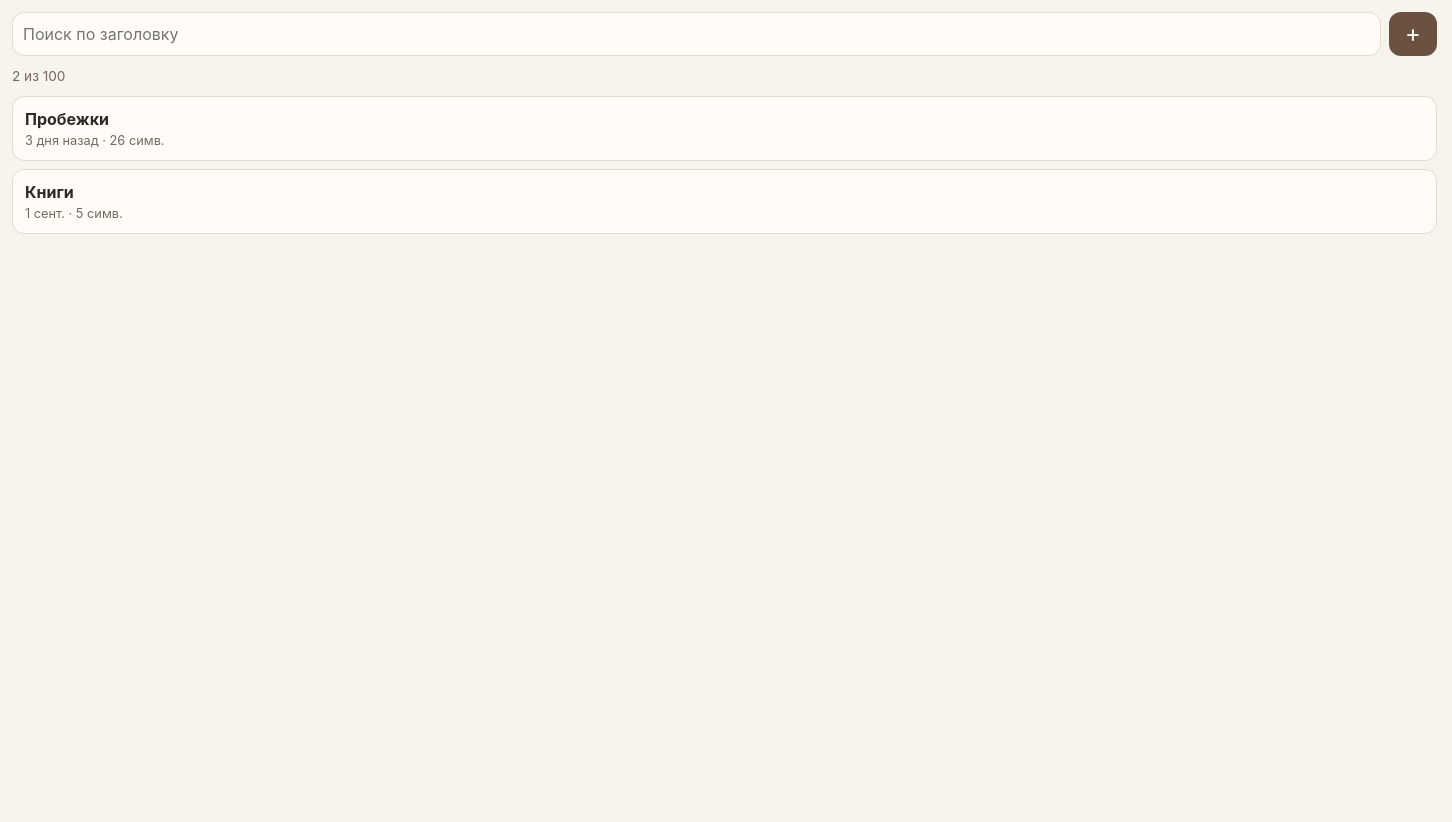
Test: NotesScreen › reports the server-side notes limit on create
Click the button named "Создать заметку": (1413, 34) [1389, 12, 1437, 56]
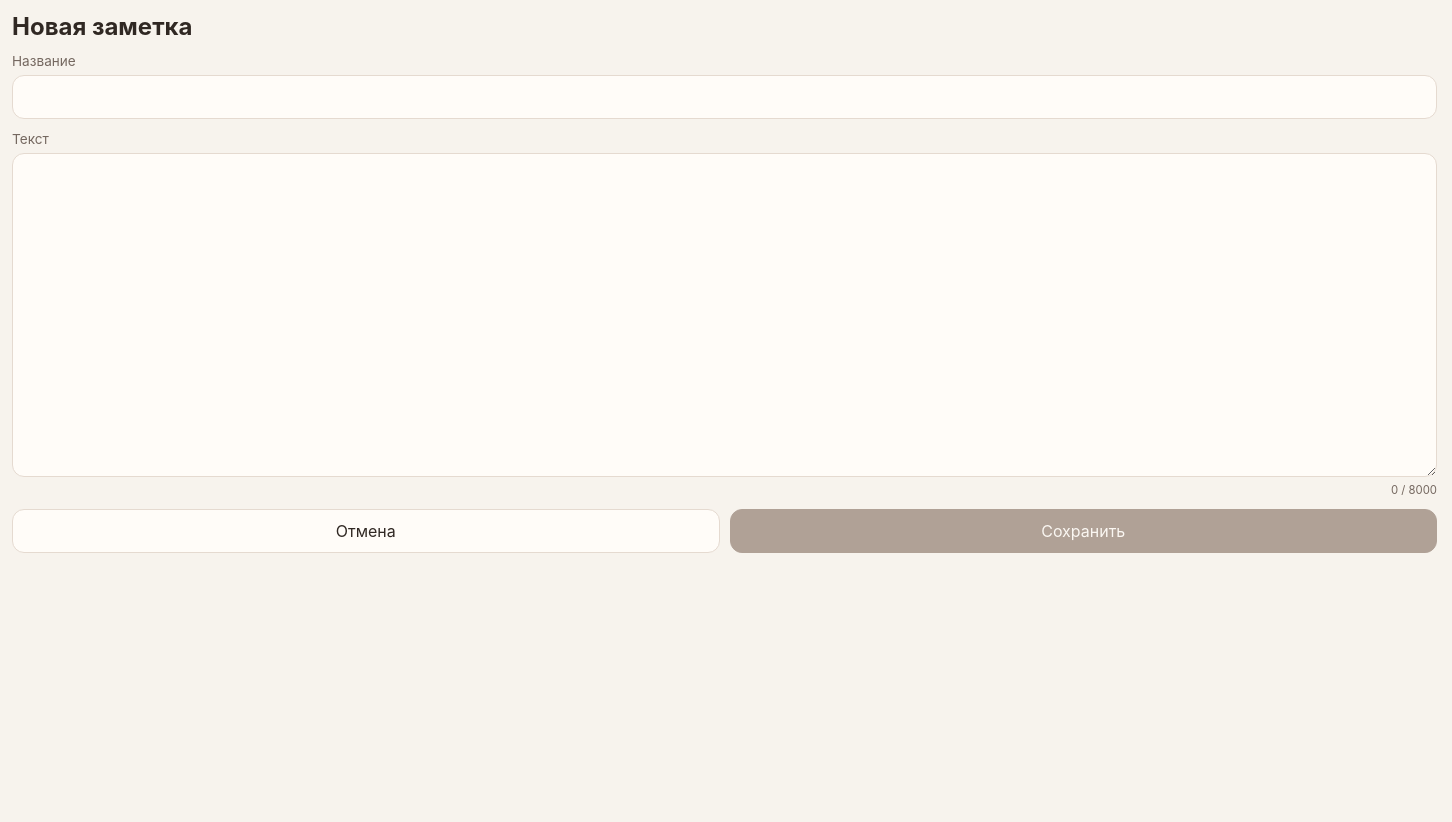
In the field labelled "Название": (724, 97) [12, 75, 1437, 119], type "Книги"
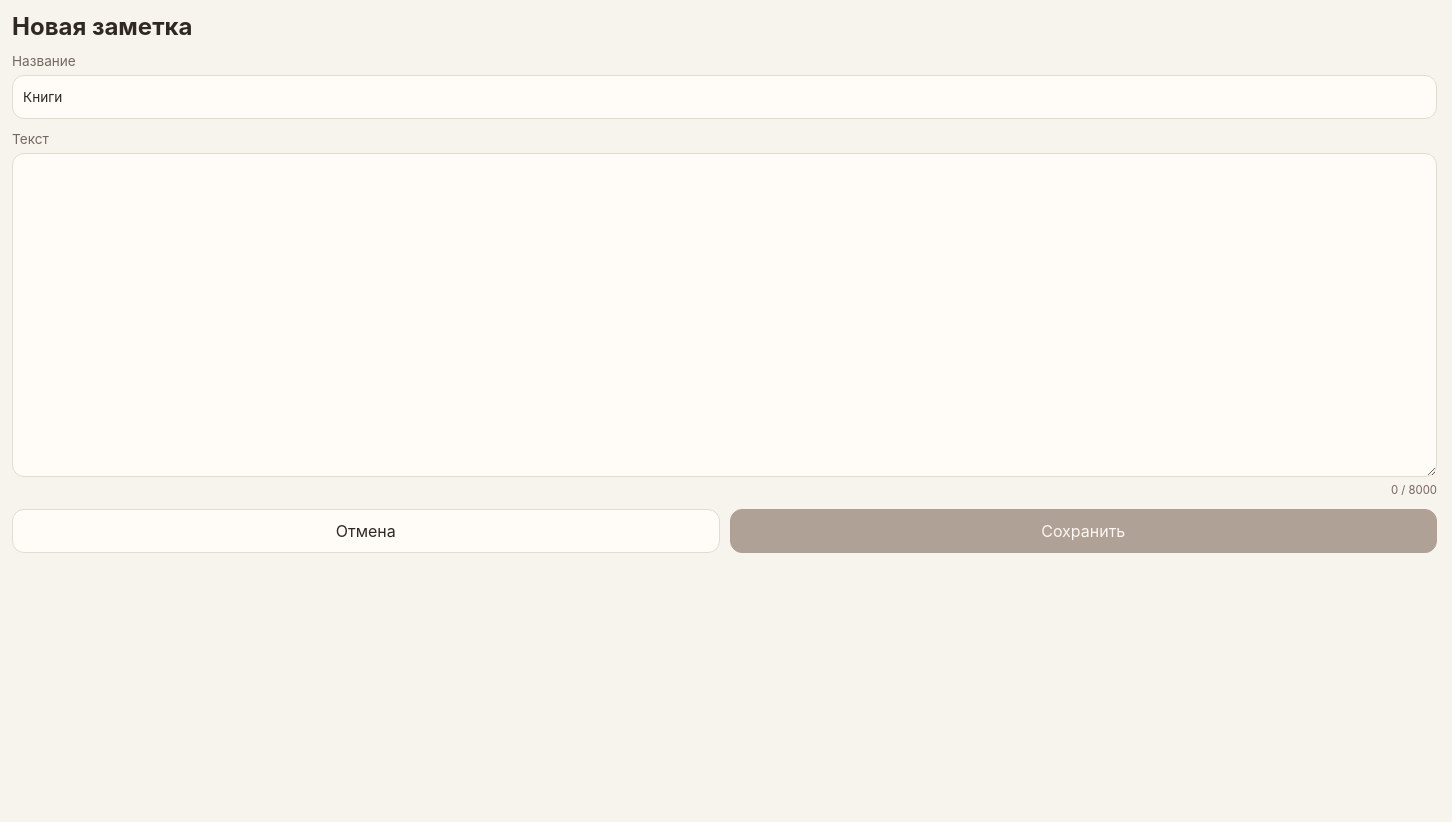
In the text box labelled "Текст 0 / 8000": (724, 315) [12, 153, 1437, 477], type "мой текст"
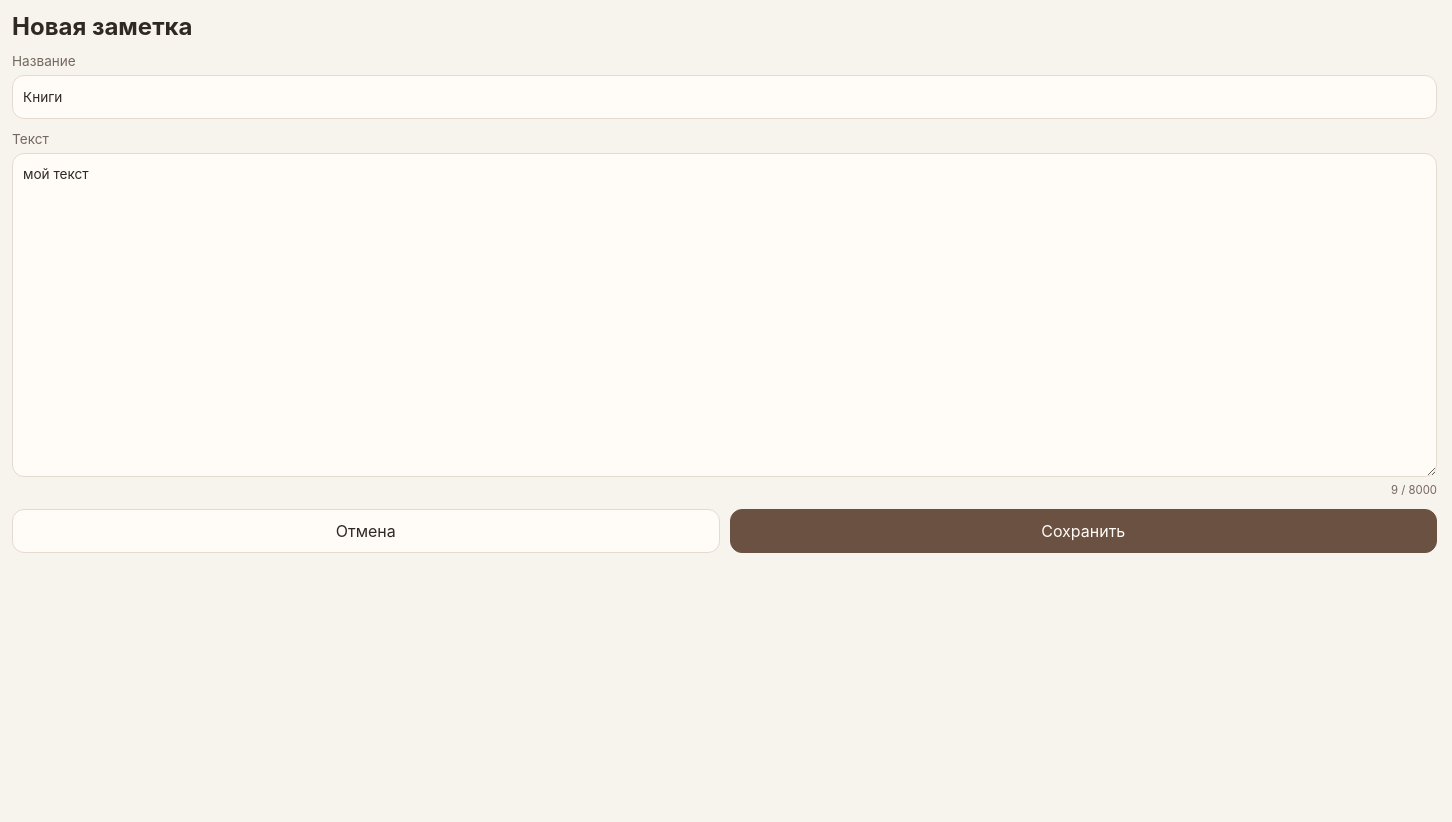
Click the button with class "note-save": (1083, 531) [730, 509, 1437, 553]
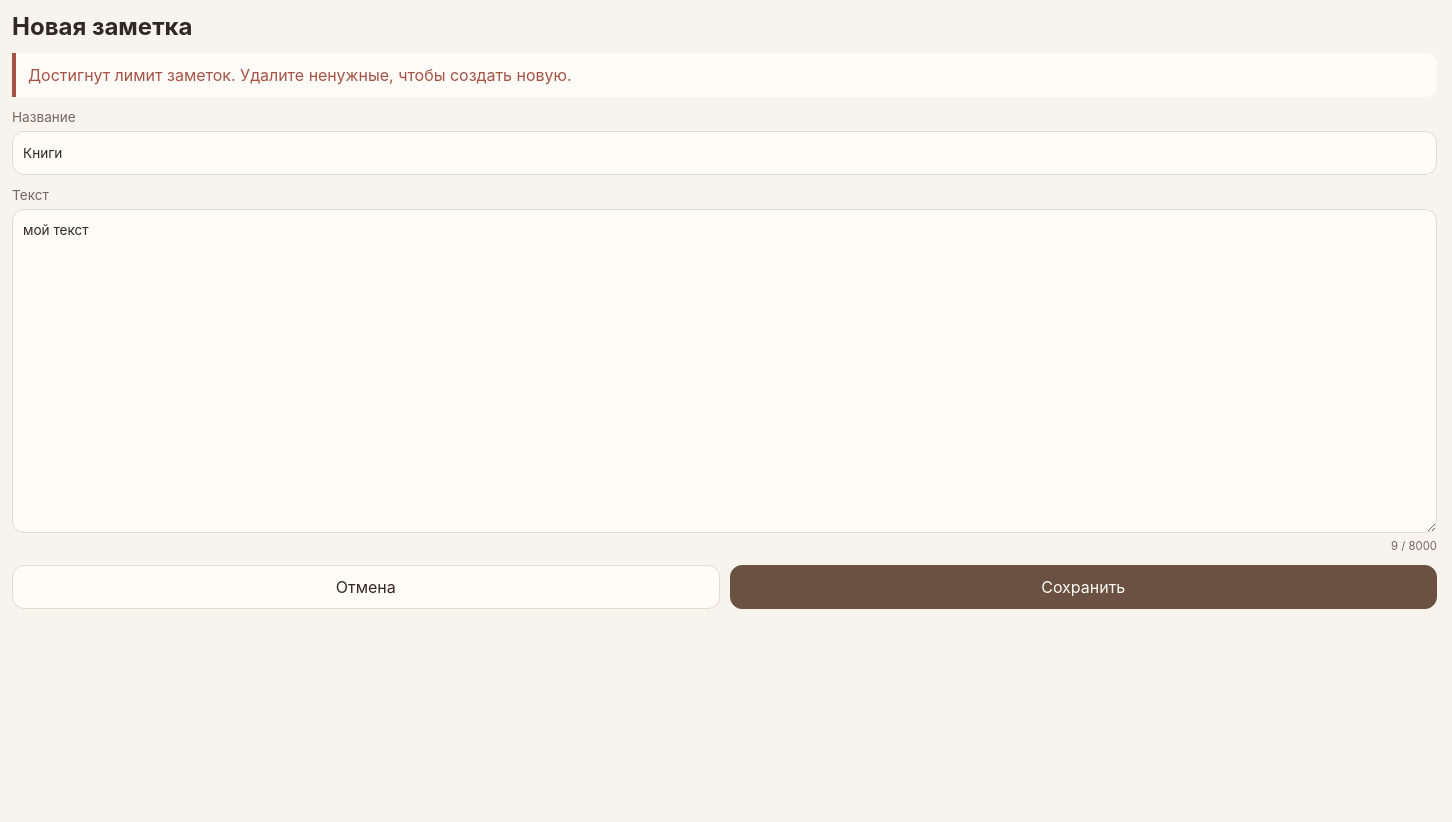
Now the text "Достигнут лимит заметок" is shown, box [28, 65, 572, 85]
